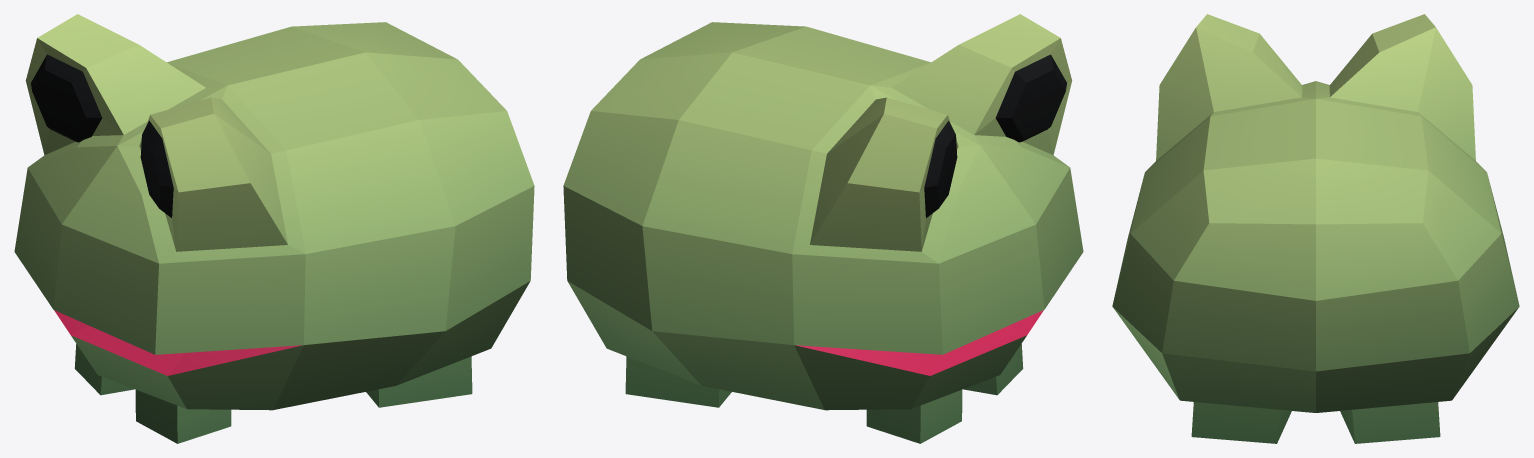
File: froggo.fbx
The picture shows the model from 3 angles, left to right: view 1: azimuth 30°, elevation 25°; view 2: azimuth 150°, elevation 25°; view 3: azimuth 270°, elevation 25°; orthographic projection. The views are drawn at different scales.
Parts seen in each view (by area): view 1: froggo; view 2: froggo; view 3: froggo.
Boxes of the visible parts, <box> form: froggo: <box>14,14,534,443</box>; froggo: <box>563,14,1083,443</box>; froggo: <box>1112,14,1519,443</box>.
Bounding box in the file's own units: 48.85 × 35.7 × 43.93.
